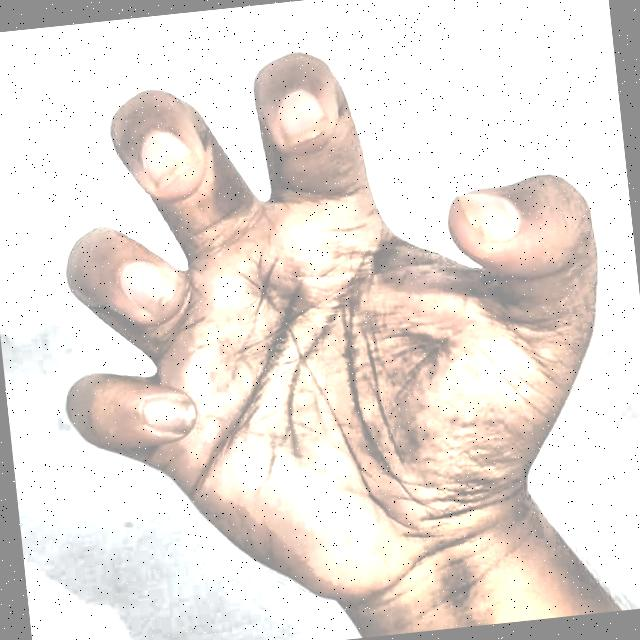Ja: (10, 0, 640, 640)
